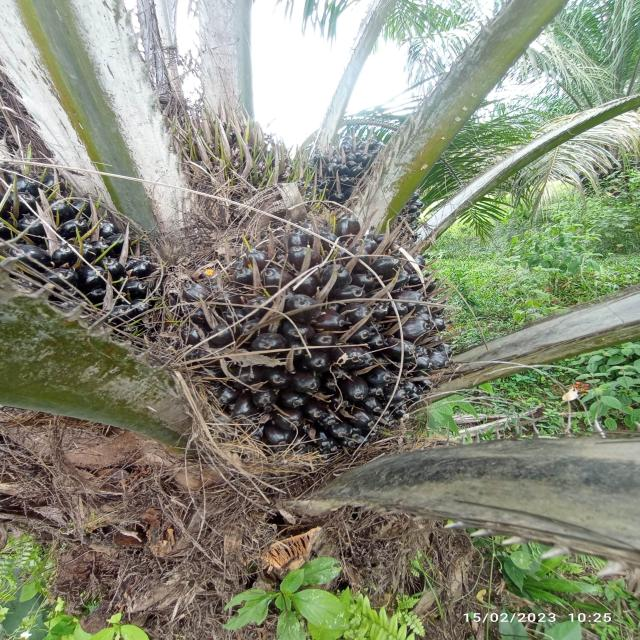fraksi 00: (132, 197, 519, 506)
